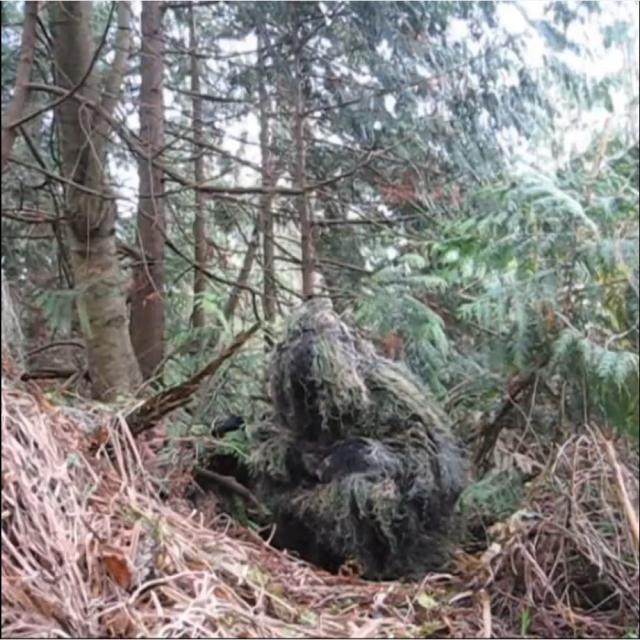Camouflage: (175, 297, 467, 582)
